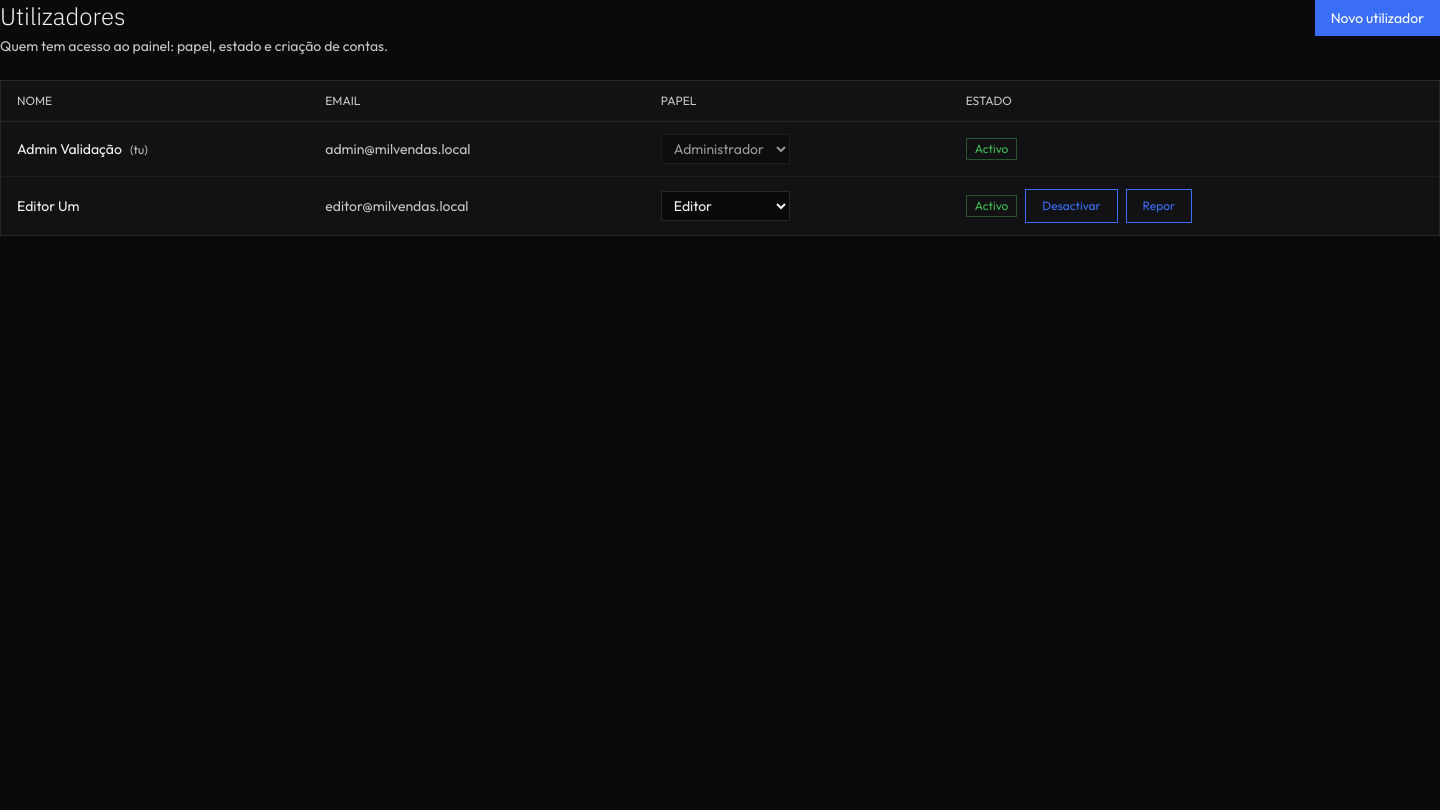
Test: UsersPage › erro no repo mostra toast com o detail e mantém o modal aberto
This screenshot has width=1440, height=810.
Expected: the text "Editor Um" is shown, [1,176,309,235]
Click the button "Repor" at point(1159, 206), box [1126,189,1192,223]
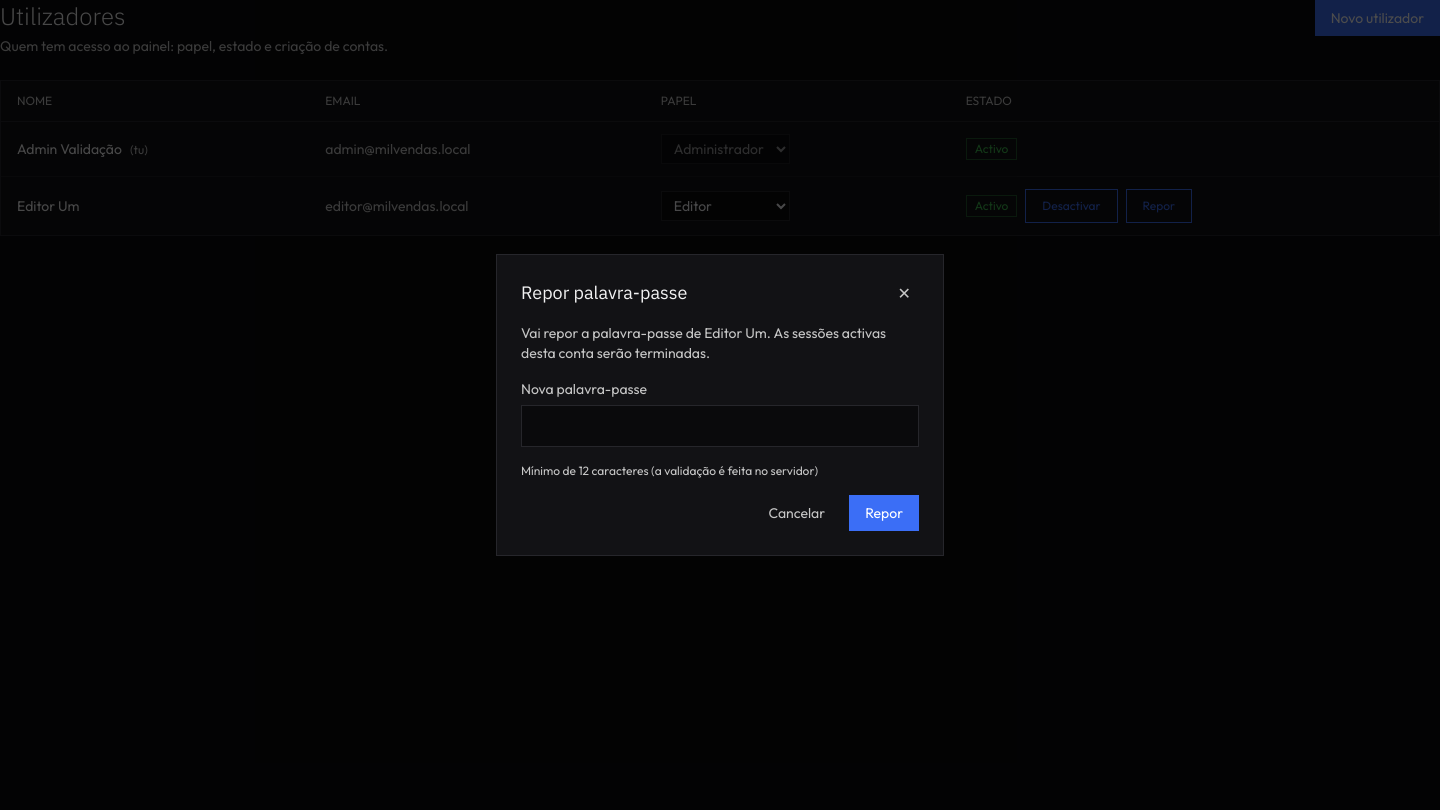
Type "senha-reposta-1234" into the password field labelled "Nova palavra-passe" at point(720, 426), box [521,405,919,447]
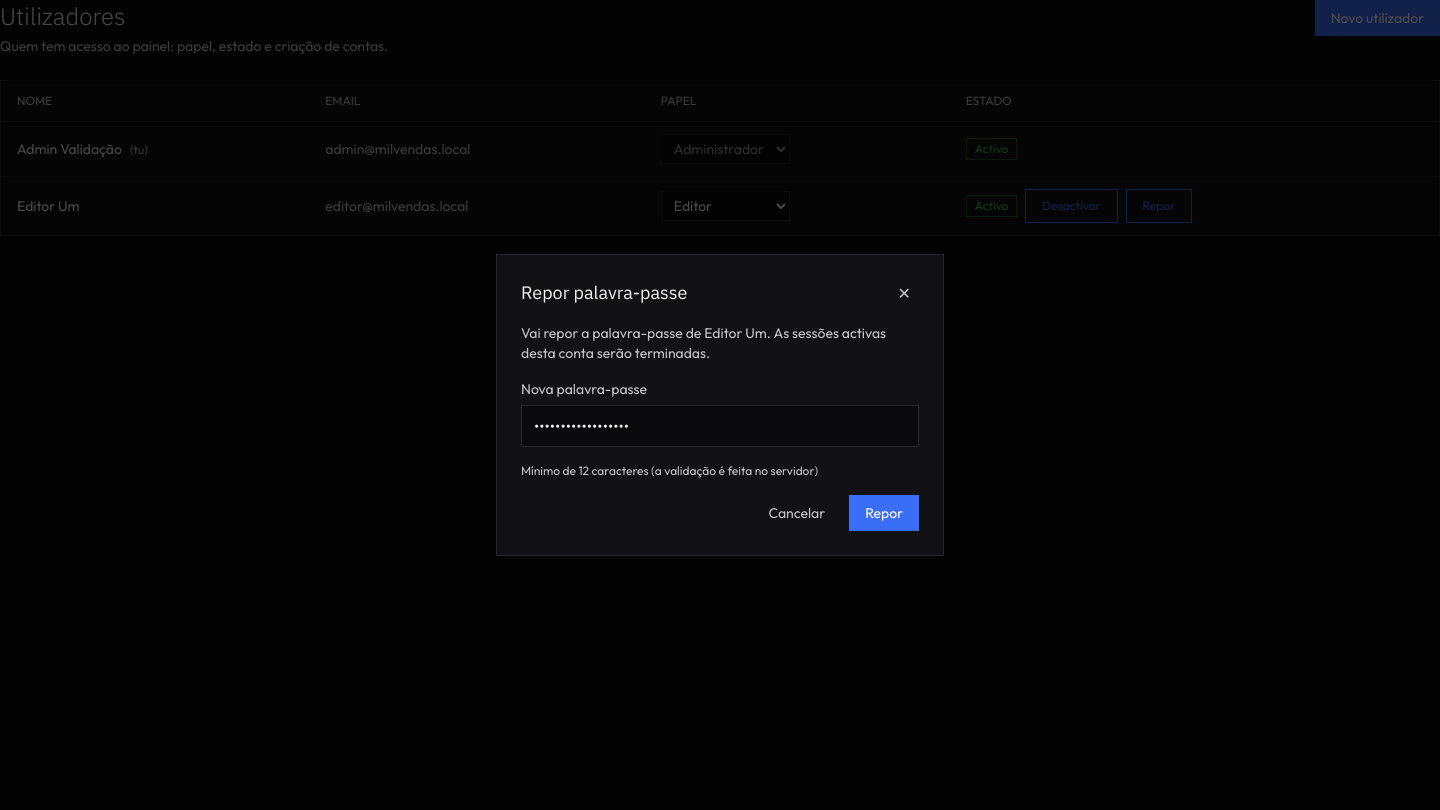
Click the button "Repor" at point(884, 513), box [849,495,919,531]
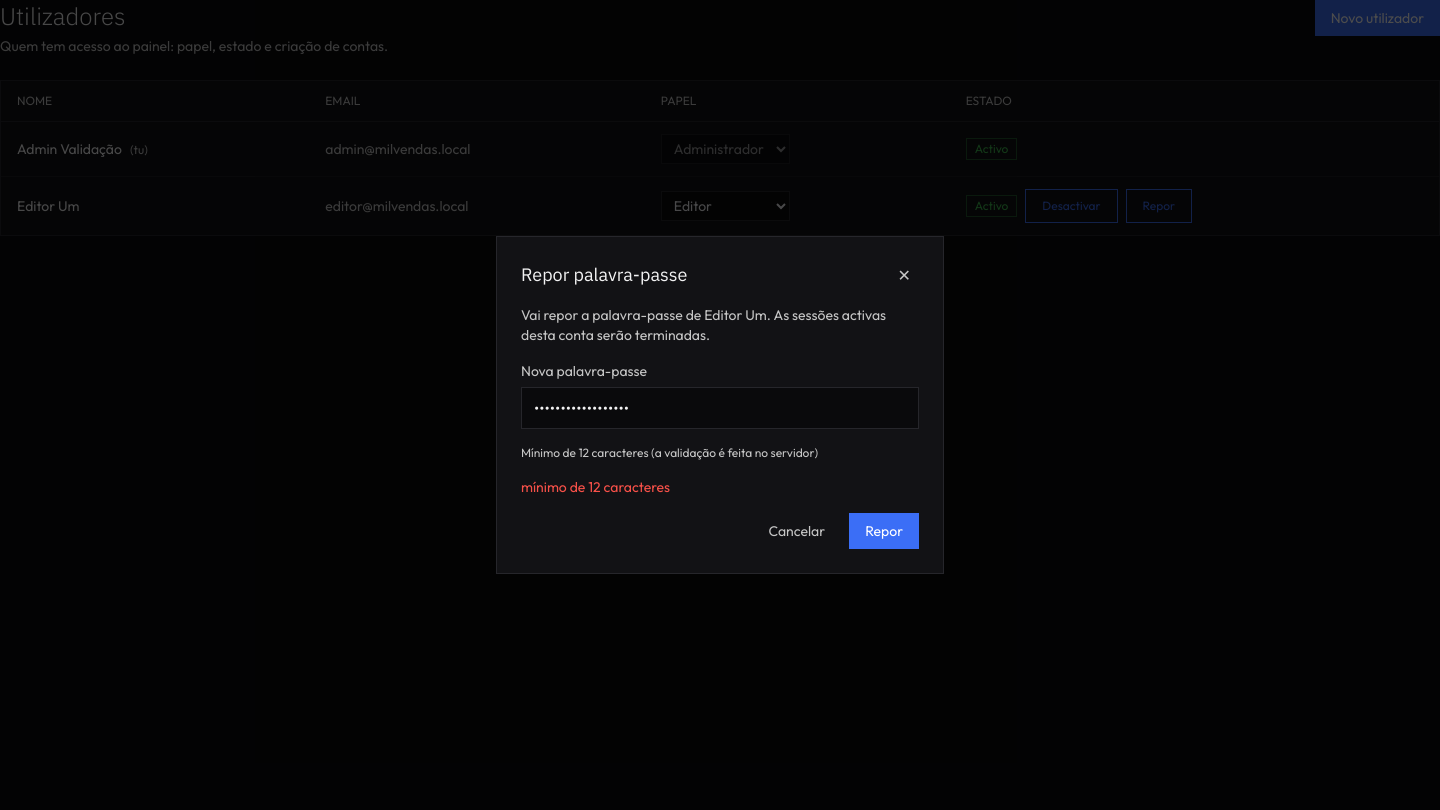
Result: the dialog is shown at [496,236,944,574]
Result: the message reads "mínimo de 12 caracteres" at [521,478,670,496]
